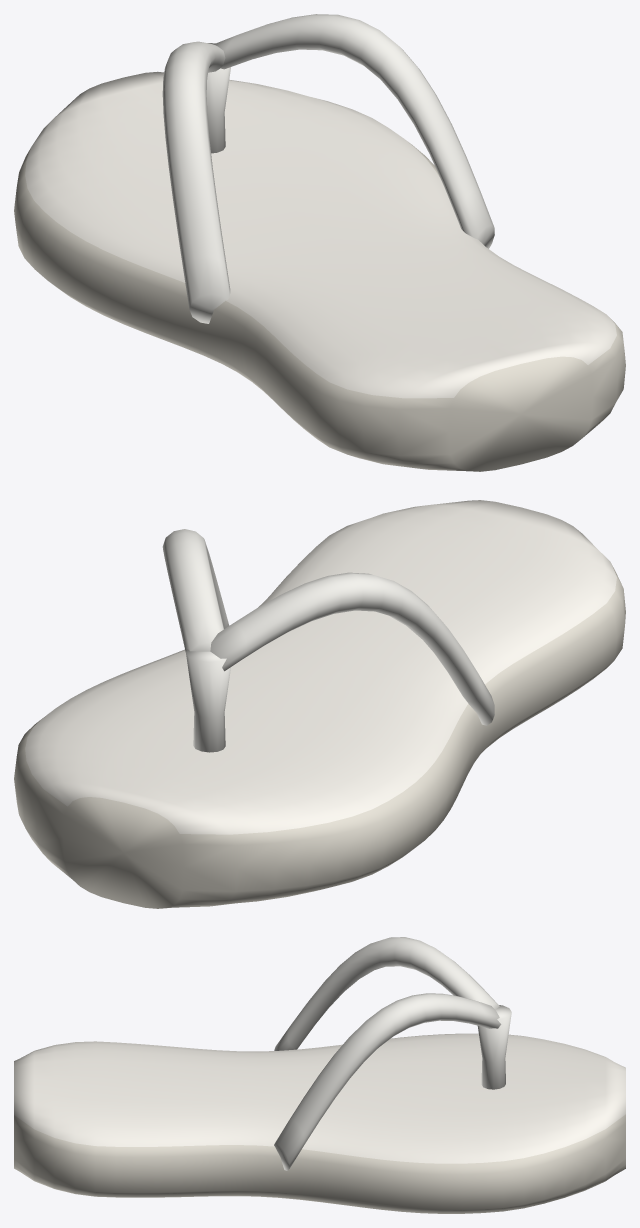
Rendered from slipper.glb.
3 renders of one model, top to bottom at view 1: azimuth 30°, elevation 25°; view 2: azimuth 150°, elevation 25°; view 3: azimuth 270°, elevation 25°, orthographic. The views are drawn at different scales.
Visible parts, largest first — view 1: slipper; view 2: slipper; view 3: slipper.
Boxes of the visible parts, <box> form: slipper: <box>14,14,625,471</box>; slipper: <box>14,500,625,908</box>; slipper: <box>14,937,625,1213</box>.
Size of the model in its own units: 0.54 by 0.35 by 1.
Materials: 1 (1 with a texture image).
